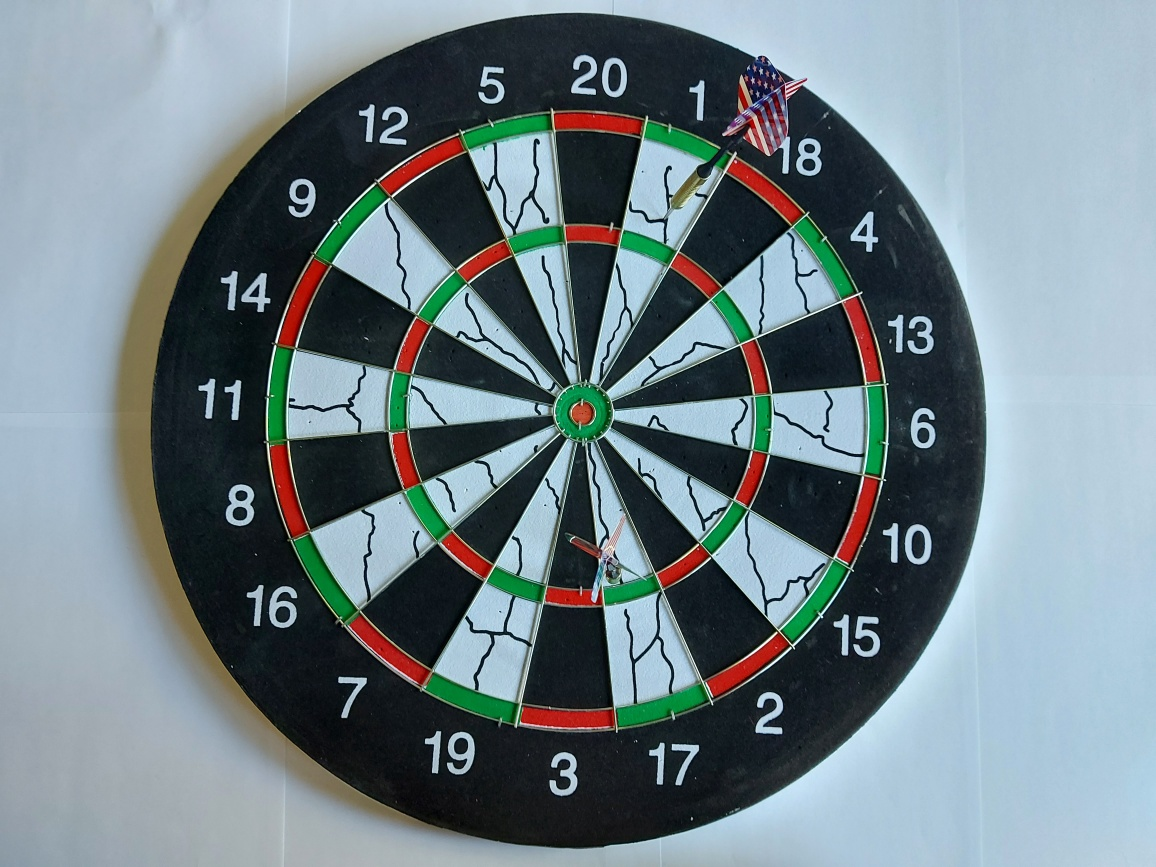Dart: (660, 49, 813, 227), (557, 509, 657, 608)
